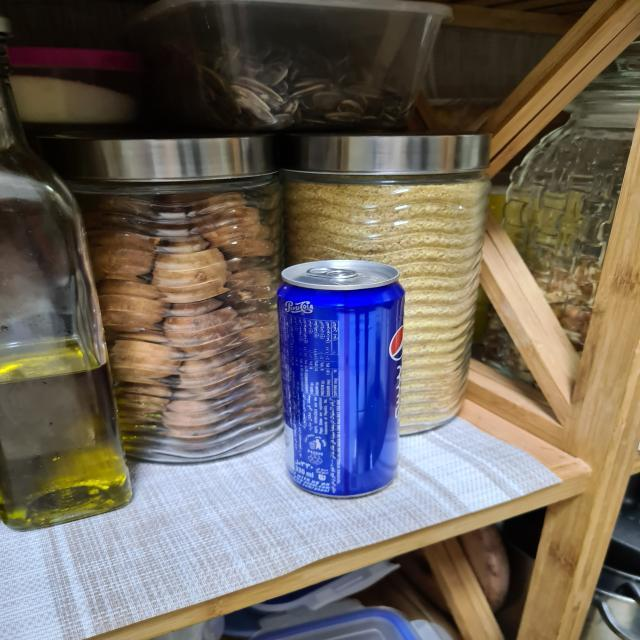can: (280, 259, 410, 499)
